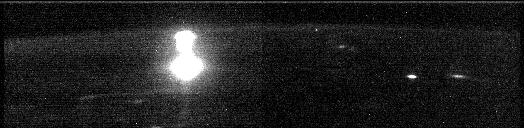positive: (172, 29, 197, 56)
